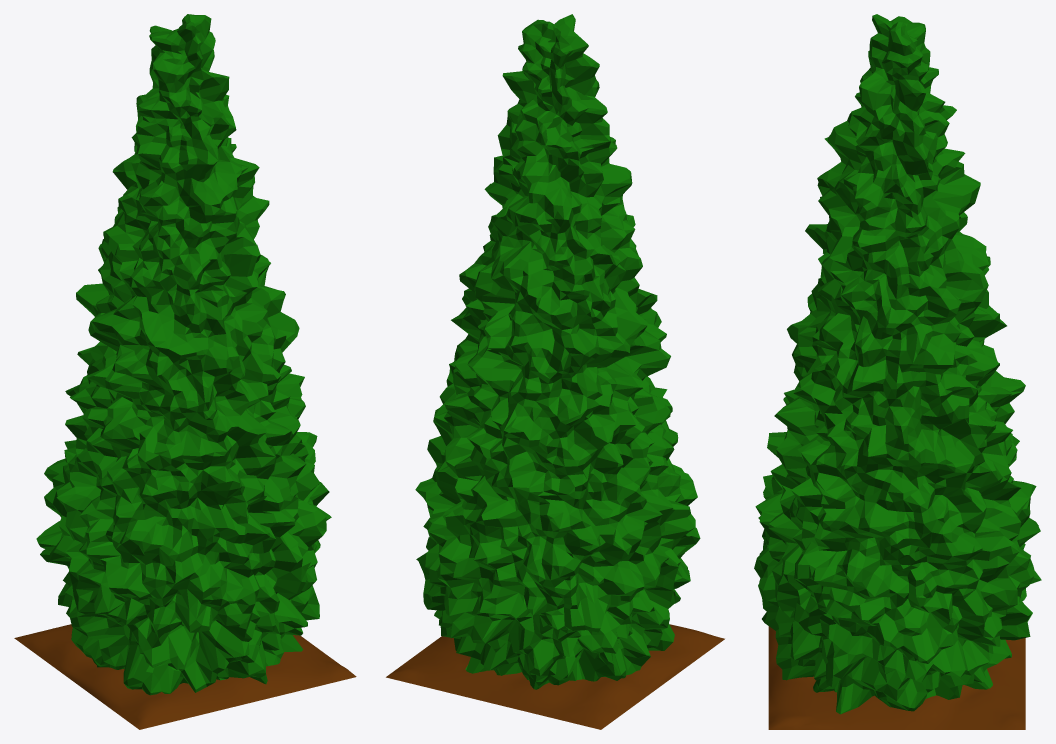
The model's file is arborvitae.glb.
The picture shows the model from 3 angles, left to right: view 1: azimuth 30°, elevation 25°; view 2: azimuth 150°, elevation 25°; view 3: azimuth 270°, elevation 25°; orthographic projection. The views are drawn at different scales.
Parts seen in each view (by area): view 1: 5_nft_summer; view 2: 5_nft_summer; view 3: 5_nft_summer.
Boxes of the visible parts, x1,y1,x2,y2 form: 5_nft_summer: (14, 14, 356, 729); 5_nft_summer: (386, 14, 724, 729); 5_nft_summer: (754, 14, 1041, 729).
Size of the model in its own units: 1.59 by 3.95 by 1.57.
